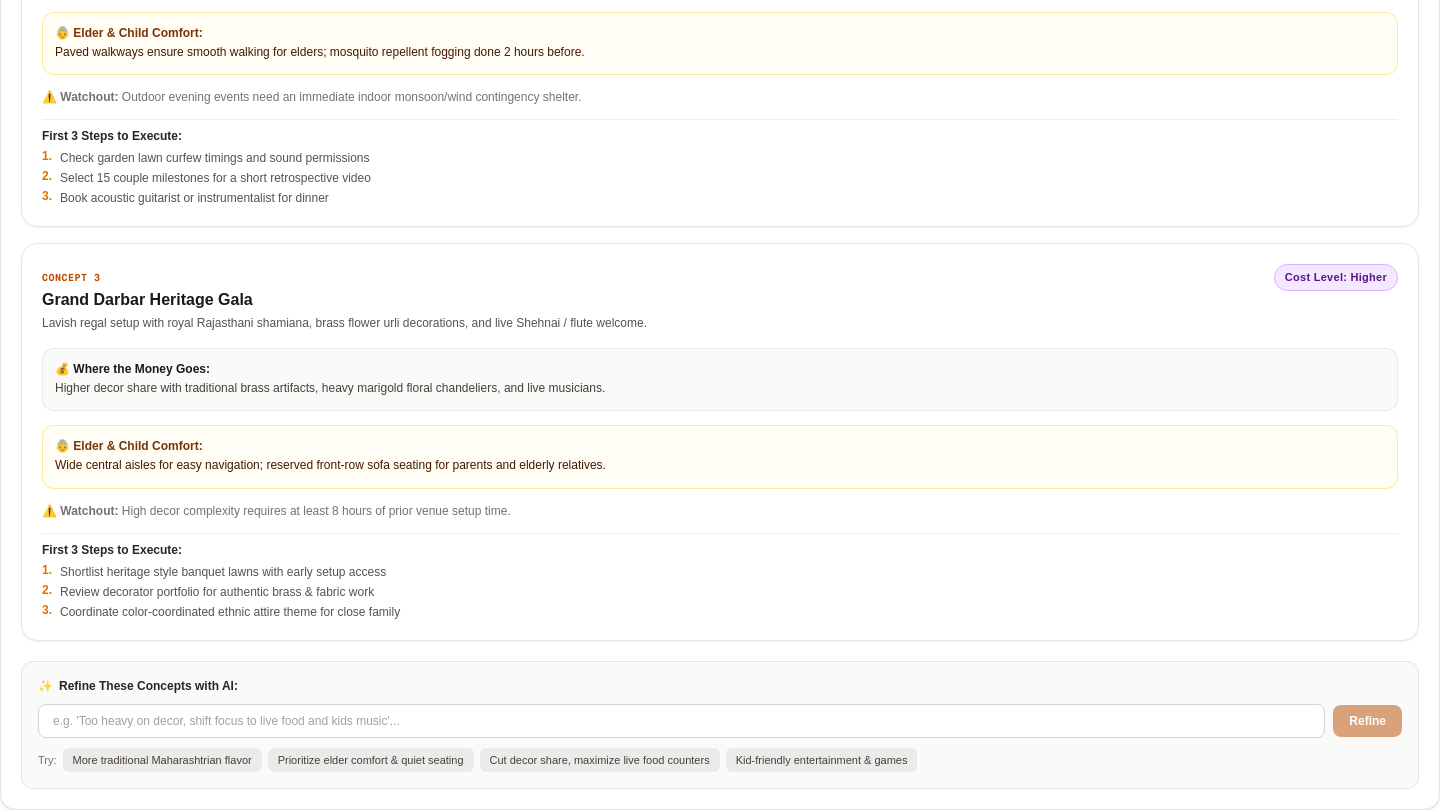
Test: IdeasTab Component › submits feedback through refine bar and updates concepts
(page scrolled)
Replace the text in the field with placeholder "Too heavy on decor" with "Make it more traditional Maharashtrian": (682, 720) [38,704,1325,738]
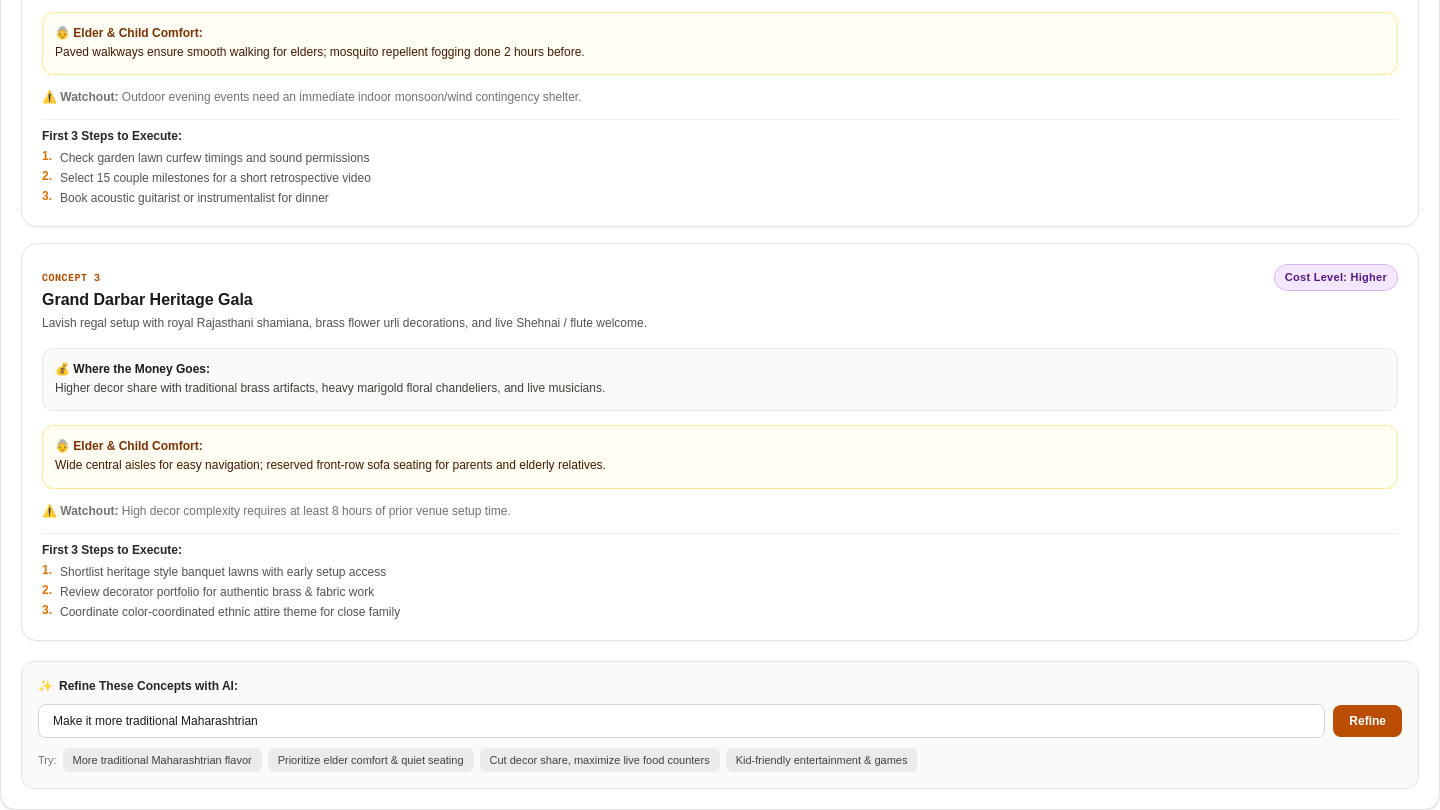
Click the button "Refine": (1368, 720) [1333,704,1402,736]
(page scrolled)
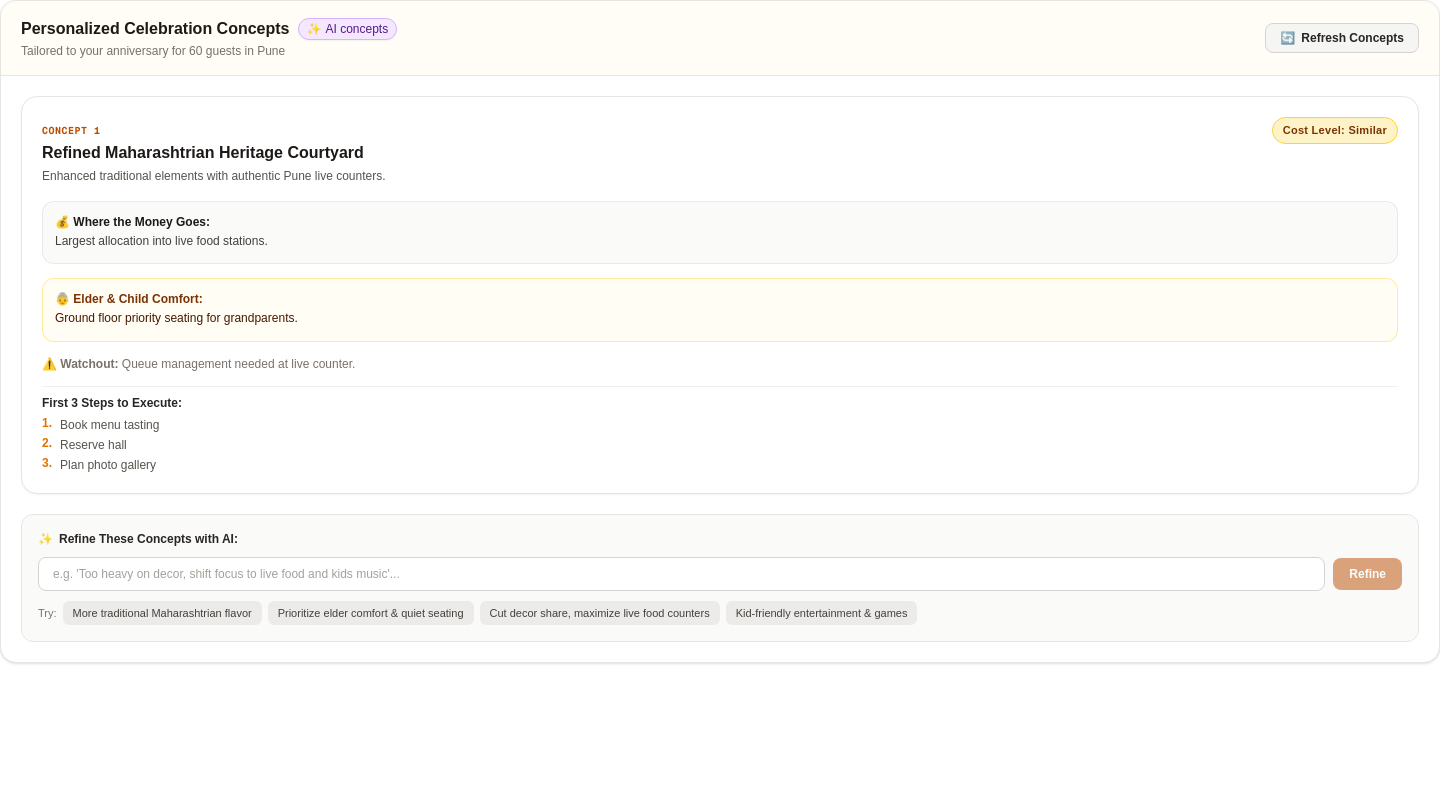
Expected: the heading "Refined Maharashtrian Heritage Courtyard" is shown, [42,141,386,165]
